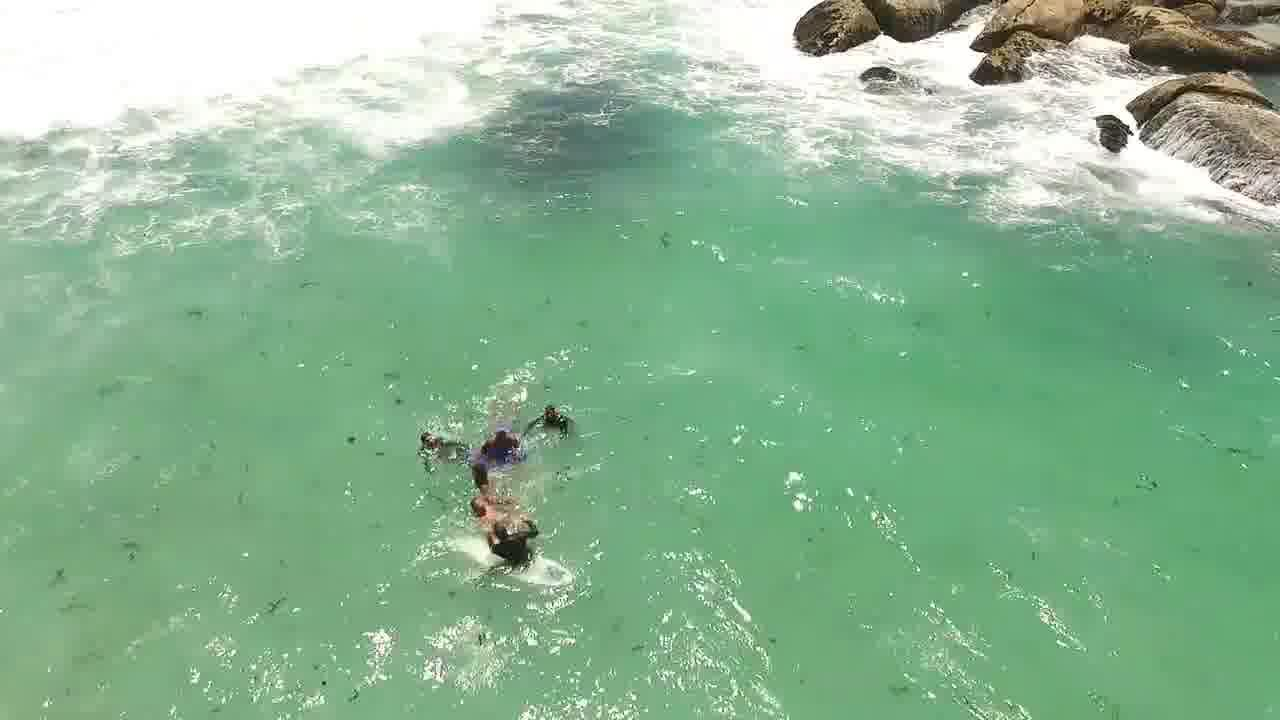human: (479, 518, 546, 569), (525, 399, 587, 446), (476, 418, 530, 467), (461, 492, 526, 532), (458, 449, 503, 497), (411, 426, 465, 462)
